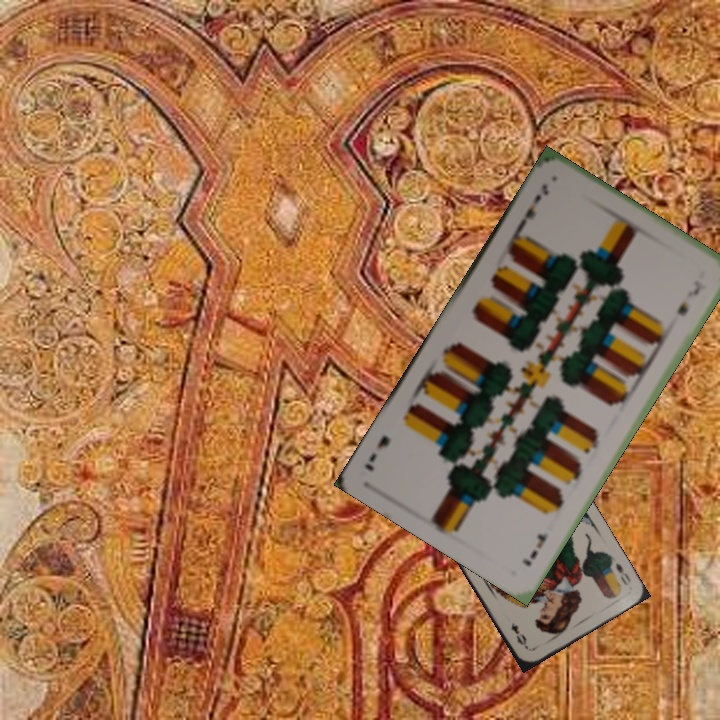E7: (515, 179, 551, 230), (517, 529, 550, 569)
EO: (611, 559, 634, 588)
